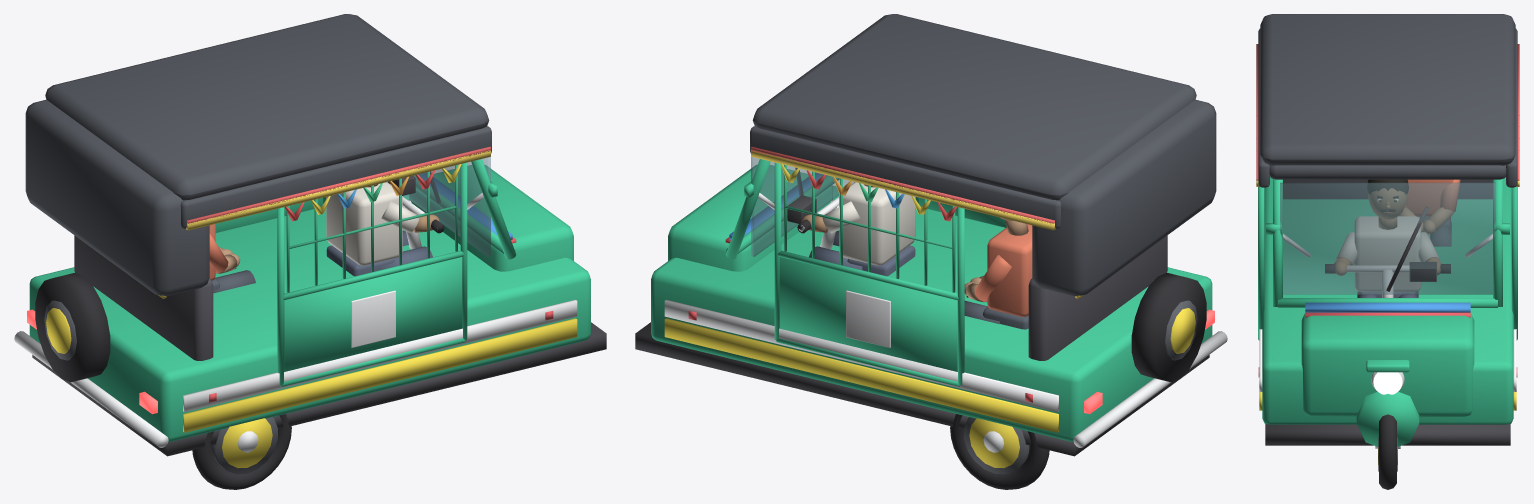
The model's file is cng-autorickshaw.glb.
3 views of the same model, side by side, from view 1: azimuth 30°, elevation 25°; view 2: azimuth 150°, elevation 25°; view 3: azimuth 270°, elevation 25° (orthographic). The views are drawn at different scales.
Parts seen in each view (by area): view 1: CanvasRoofTop, LowerTub, CanopyRearCowl, LowerDoorSheet_L, YellowStripe_L, FrontNose, RearBackrest, RoofEave_L, FloorPan, WhiteStripe_L, RearSpareTire, Driver_Torso (+19 smaller); view 2: CanvasRoofTop, LowerTub, CanopyRearCowl, LowerDoorSheet_R, YellowStripe_R, RearBackrest, FrontNose, RoofEave_R, FloorPan, WhiteStripe_R, RearSpareTire, Driver_Torso (+21 smaller); view 3: CanvasRoofTop, LowerTub, WindshieldGlass, FrontNose, FloorPan, Driver_Torso, CanopyFrontSlope, RearBackrest, FrontMudguard, TricolorBlue, WindshieldCowl, wheel_front_tire (+22 smaller).
Part boxes in pixels (x1,y1,x2,y2): CanvasRoofTop: [45, 14, 489, 200]; LowerTub: [29, 194, 590, 441]; CanopyRearCowl: [25, 99, 209, 295]; LowerDoorSheet_L: [284, 257, 462, 371]; YellowStripe_L: [183, 318, 577, 432]; FrontNose: [409, 165, 573, 271]; RearBackrest: [74, 235, 213, 360]; RoofEave_L: [180, 126, 491, 228]; FloorPan: [32, 322, 606, 456]; WhiteStripe_L: [183, 299, 577, 412]; RearSpareTire: [35, 273, 110, 382]; Driver_Torso: [326, 182, 402, 265]; CanvasRoofTop: [752, 14, 1196, 200]; LowerTub: [651, 186, 1212, 441]; CanopyRearCowl: [1032, 99, 1216, 295]; LowerDoorSheet_R: [779, 257, 957, 371]; YellowStripe_R: [664, 318, 1058, 432]; RearBackrest: [1028, 235, 1167, 360]; FrontNose: [668, 165, 832, 271]; RoofEave_R: [750, 126, 1061, 228]; FloorPan: [635, 322, 1209, 456]; WhiteStripe_R: [664, 299, 1058, 412]; RearSpareTire: [1131, 273, 1206, 382]; Driver_Torso: [839, 182, 915, 265]; CanvasRoofTop: [1260, 14, 1515, 165]; LowerTub: [1262, 177, 1513, 424]; WindshieldGlass: [1280, 182, 1495, 294]; FrontNose: [1301, 313, 1474, 416]; FloorPan: [1265, 424, 1510, 445]; Driver_Torso: [1355, 216, 1420, 291]; CanopyFrontSlope: [1269, 165, 1506, 179]; RearBackrest: [1283, 179, 1492, 198]; FrontMudguard: [1356, 391, 1419, 446]; TricolorBlue: [1305, 302, 1470, 312]; WindshieldCowl: [1278, 298, 1497, 307]; wheel_front_tire: [1379, 414, 1396, 489].
Size of the model in its own units: 2.71 by 1.66 by 1.34.
